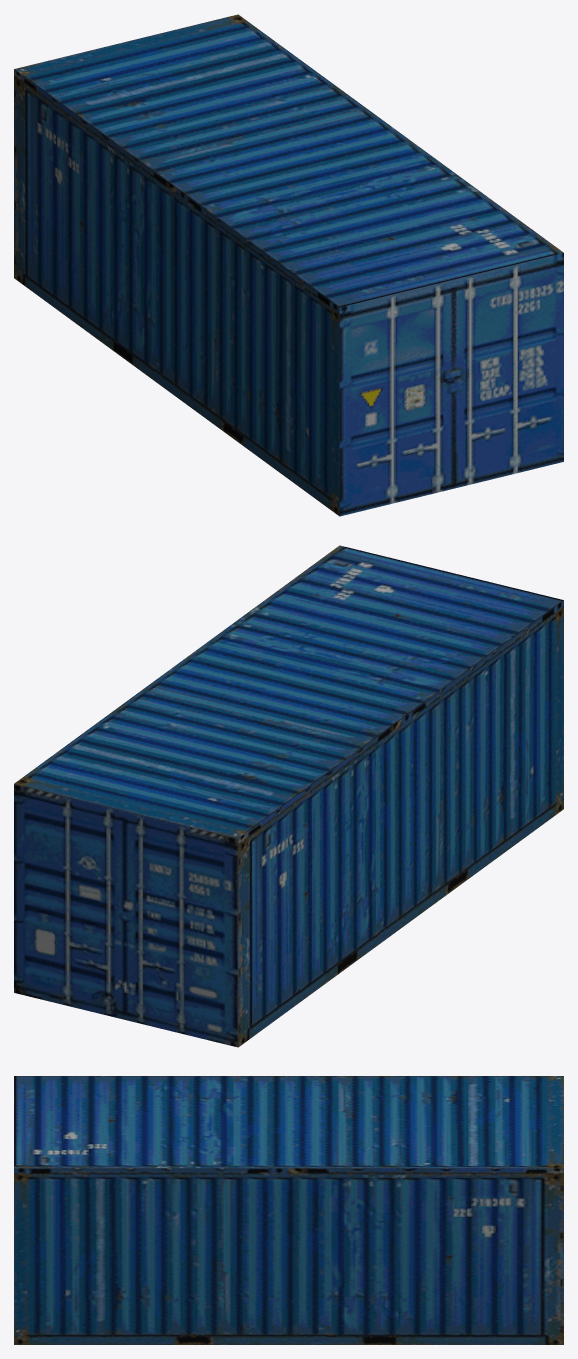
File: 04_container_01.glb
3 renders of one model, top to bottom at view 1: azimuth 30°, elevation 25°; view 2: azimuth 150°, elevation 25°; view 3: azimuth 270°, elevation 25°, orthographic. The views are drawn at different scales.
Visible parts, largest first — view 1: Container01; view 2: Container01; view 3: Container01.
Part boxes in pixels (x1,y1,x2,y2): Container01: [14, 14, 563, 516]; Container01: [14, 545, 563, 1047]; Container01: [14, 1076, 563, 1344].
Bounding box in the file's own units: 5.14 × 4.57 × 12.91.
Materials: 1 (1 with a texture image).
